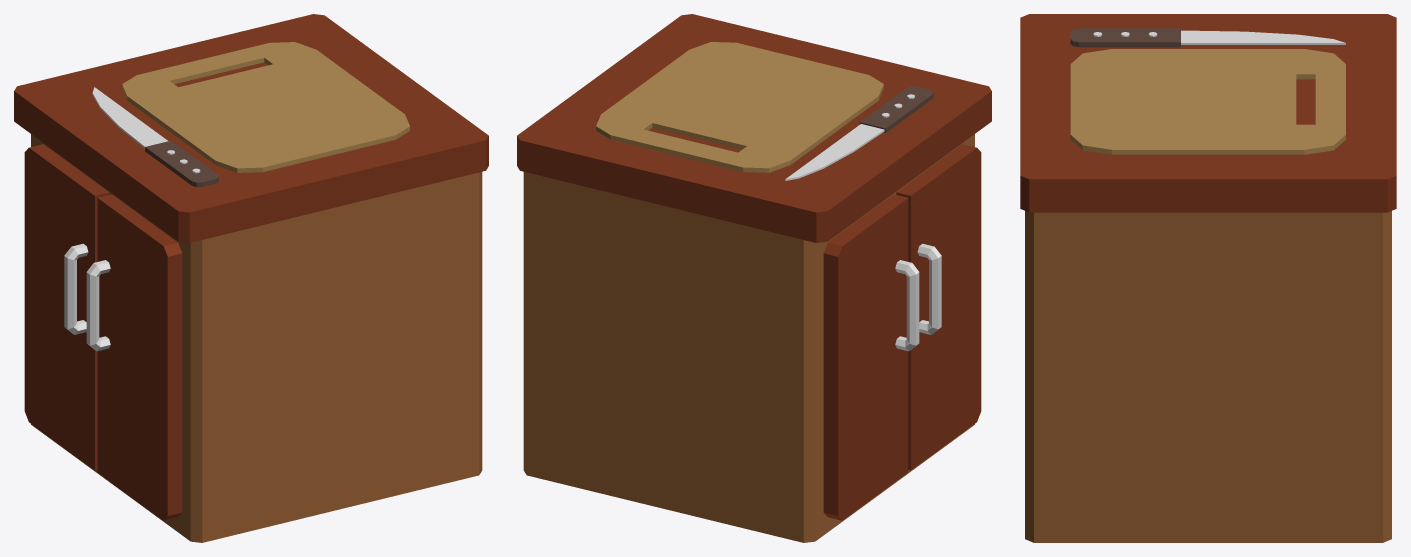
Rendered from Cutting_Counter.fbx.
3 renders of one model, left to right at view 1: azimuth 30°, elevation 25°; view 2: azimuth 150°, elevation 25°; view 3: azimuth 270°, elevation 25°, orthographic. The views are drawn at different scales.
Visible parts, largest first — view 1: Counter_Base, Counter_Doors, Counter_Top, Chopping_Board, Knife, Counter_Handles; view 2: Counter_Base, Counter_Doors, Counter_Top, Chopping_Board, Knife, Counter_Handles; view 3: Counter_Base, Counter_Top, Chopping_Board, Knife.
Boxes of the visible parts, x1,y1,x2,y2 form: Counter_Base: (31,134,482,542); Counter_Doors: (24,144,182,520); Counter_Top: (14,14,488,242); Chopping_Board: (122,42,409,172); Knife: (92,87,218,187); Counter_Handles: (64,243,110,351); Counter_Base: (523,134,974,542); Counter_Doors: (823,144,981,520); Counter_Top: (517,14,991,242); Chopping_Board: (596,42,883,172); Knife: (785,86,933,180); Counter_Handles: (895,243,941,351); Counter_Base: (1025,211,1391,542); Counter_Top: (1020,14,1396,212); Chopping_Board: (1070,49,1345,154); Knife: (1070,28,1345,47).
Bounding box in the file's own units: 1.13 × 1.12 × 1.02.
